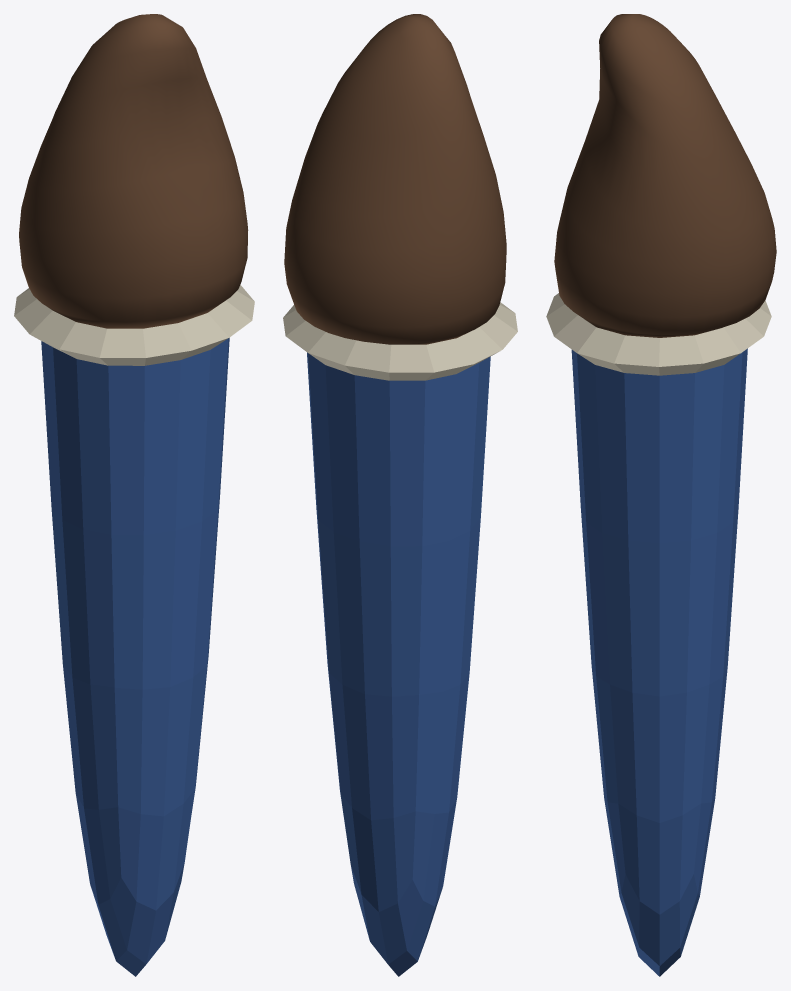
The model's file is PINCEL.fbx.
3 views of the same model, side by side, from view 1: azimuth 30°, elevation 25°; view 2: azimuth 150°, elevation 25°; view 3: azimuth 270°, elevation 25° (orthographic). The views are drawn at different scales.
Visible parts, largest first — view 1: Cube; view 2: Cube; view 3: Cube.
Part boxes in pixels (x1,y1,x2,y2): Cube: (14,14,254,976); Cube: (283,14,517,976); Cube: (546,14,776,976).
Size of the model in its own units: 210 by 932 by 203.
